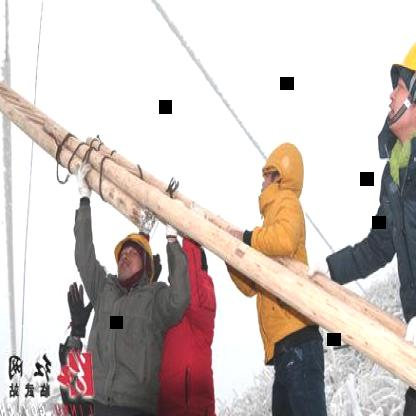helmet: (381, 33, 416, 145), (258, 137, 308, 211), (110, 222, 158, 290)
